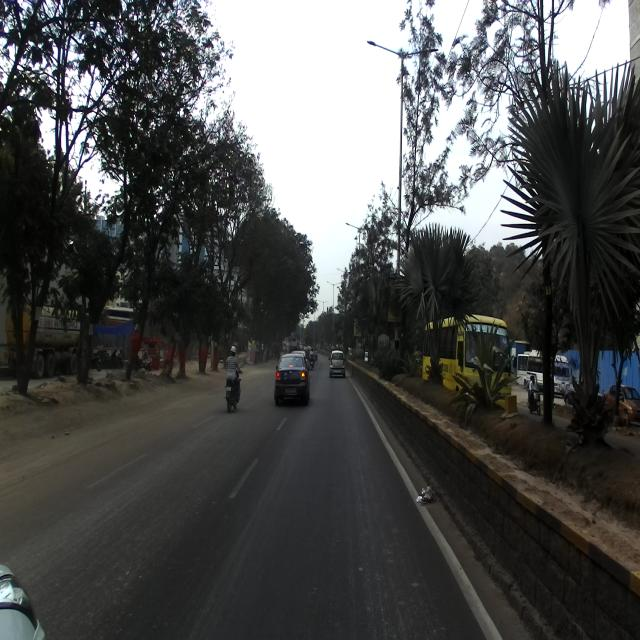car ahead at: (270, 352, 313, 407)
